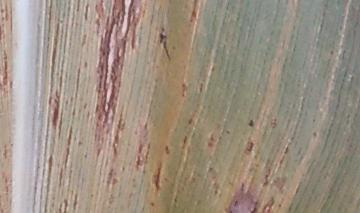tarspot: (157, 28, 167, 45), (247, 140, 254, 152), (247, 118, 255, 127), (149, 202, 156, 207)
